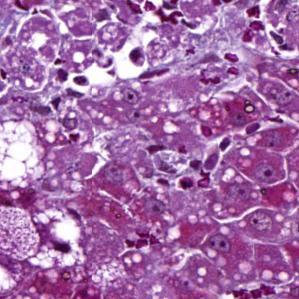ballooning: (22, 207, 88, 274), (4, 116, 47, 198)
